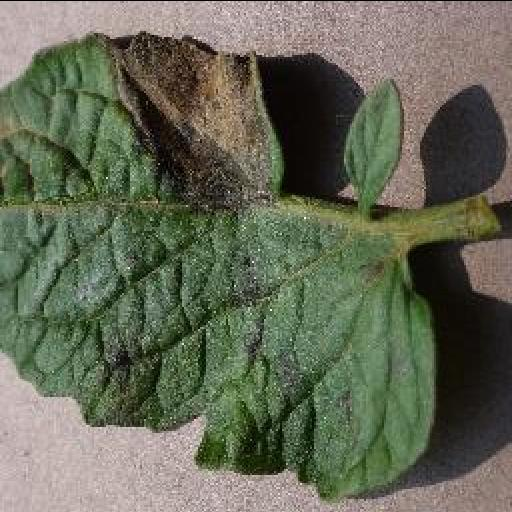disease_tomato: (0, 28, 438, 508)
